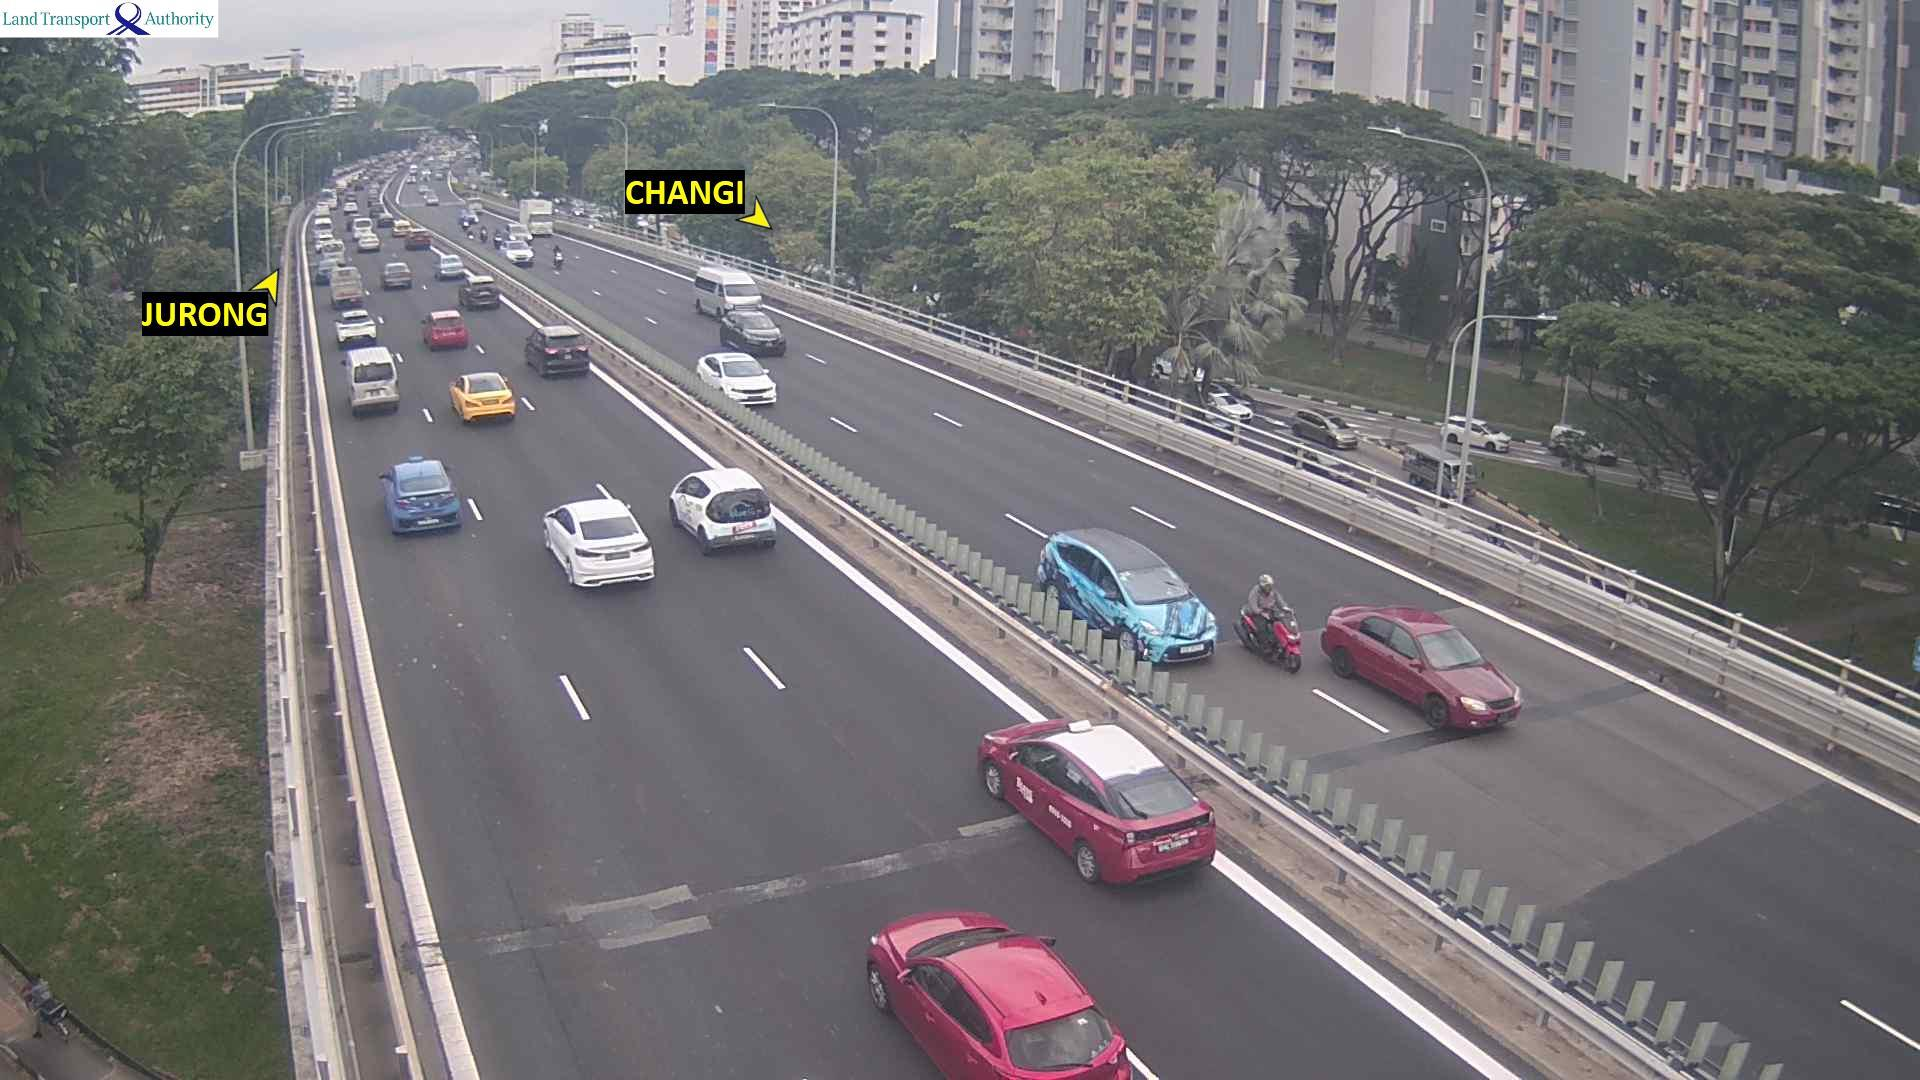incoming: (1408, 623, 1525, 740), (1096, 564, 1223, 664), (710, 358, 779, 407), (1263, 603, 1307, 674), (732, 313, 787, 359), (717, 275, 764, 321), (501, 242, 535, 265), (527, 212, 556, 237), (505, 225, 533, 244), (460, 208, 481, 225), (466, 198, 485, 215), (553, 249, 564, 270), (423, 193, 441, 205), (493, 233, 504, 250), (418, 184, 432, 194), (479, 228, 488, 242)
